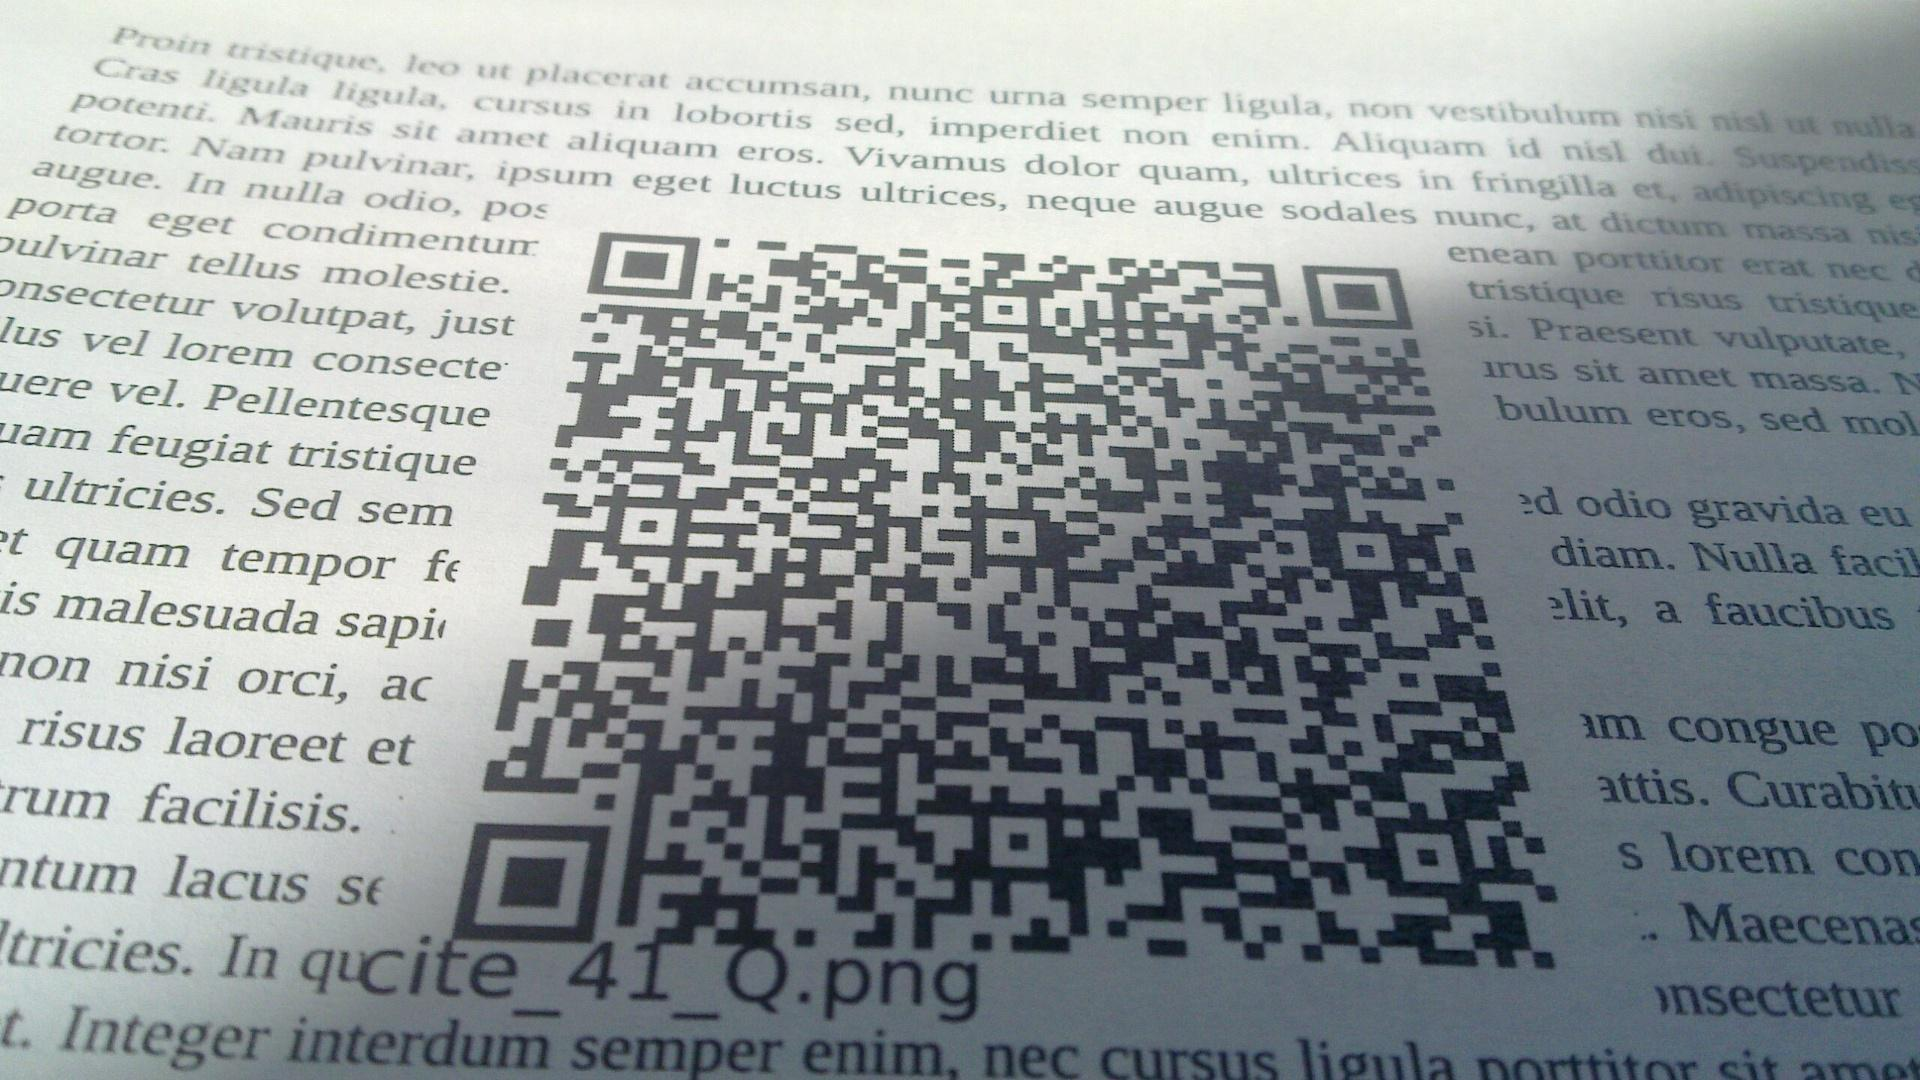Finder pattern: (448, 820, 613, 945), (580, 223, 704, 306), (1296, 260, 1416, 336)
